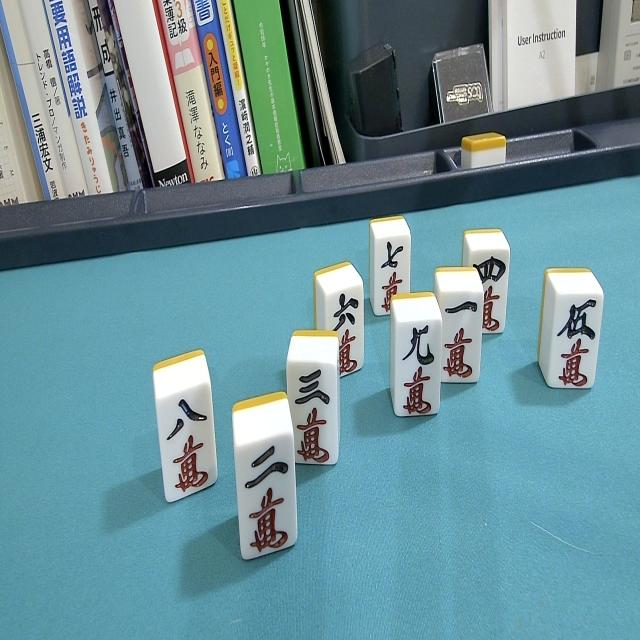1_man: (152, 348, 218, 508), (434, 262, 484, 389), (317, 262, 367, 381)
2_man: (230, 392, 299, 571)
3_man: (284, 322, 344, 474)
4_man: (466, 228, 510, 340)
5_man: (536, 263, 604, 404)
7_man: (368, 214, 413, 320)
9_man: (388, 289, 444, 432)
